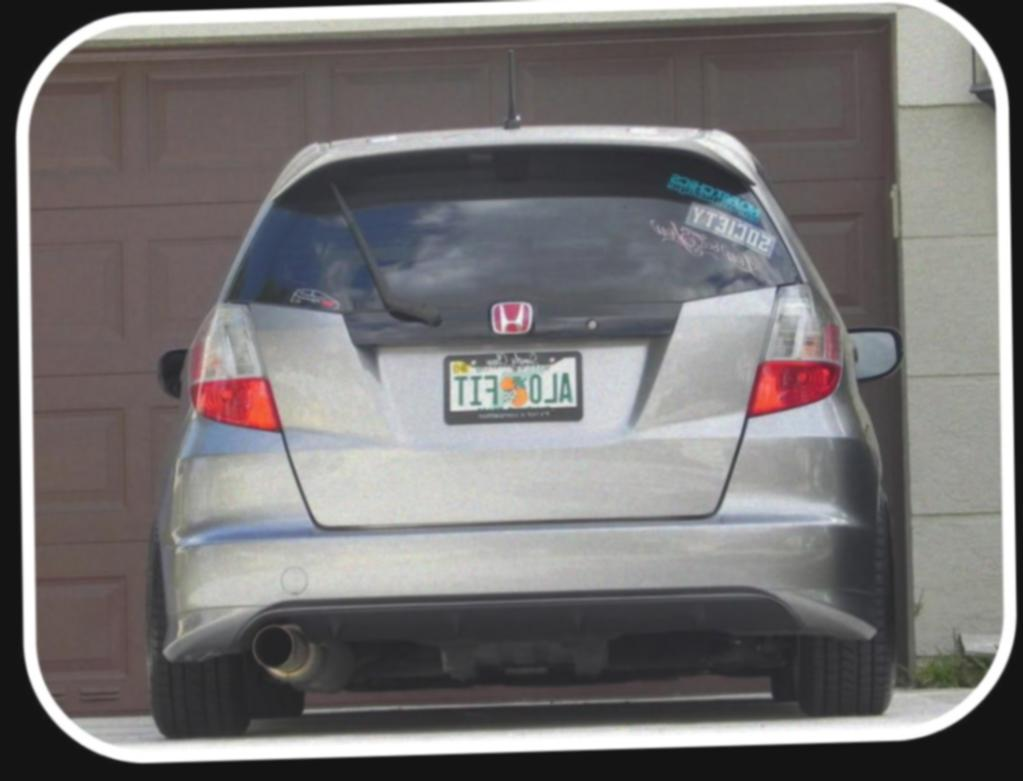License_Plate: (431, 343, 588, 427)
